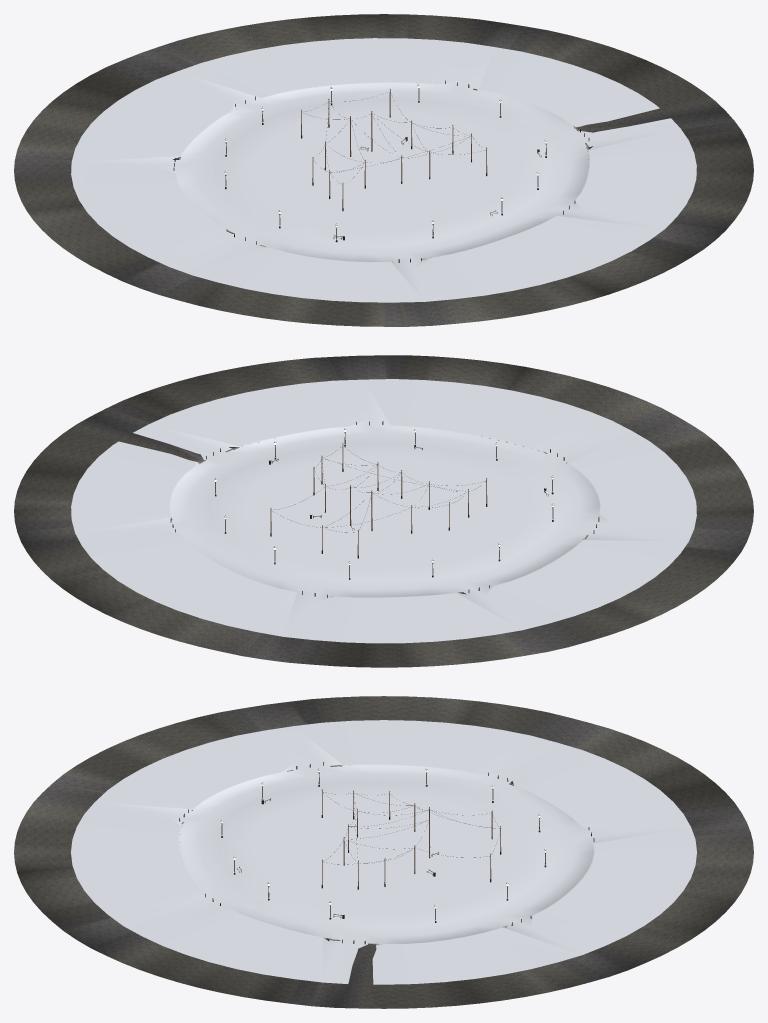
Rendered from square.lite.glb.
3 renders of one model, top to bottom at view 1: azimuth 30°, elevation 25°; view 2: azimuth 150°, elevation 25°; view 3: azimuth 270°, elevation 25°, orthographic.
Visible parts, largest first — view 1: snow_ground, ground, poles_wood, street_iron; view 2: snow_ground, ground, poles_wood, street_iron; view 3: snow_ground, ground, street_iron, poles_wood.
Part boxes in pixels (left/top/right/bottom): snow_ground: left=71, top=38, right=696, bottom=302; ground: left=14, top=14, right=753, bottom=326; poles_wood: left=301, top=90, right=487, bottom=208; street_iron: left=173, top=80, right=589, bottom=262; snow_ground: left=71, top=379, right=696, bottom=643; ground: left=14, top=355, right=753, bottom=667; poles_wood: left=270, top=444, right=487, bottom=555; street_iron: left=170, top=421, right=599, bottom=597; snow_ground: left=71, top=720, right=696, bottom=984; ground: left=14, top=696, right=753, bottom=1008; street_iron: left=179, top=762, right=594, bottom=944; poles_wood: left=322, top=790, right=501, bottom=886.
Bounding box in the file's own units: 156 × 9.73 × 156.
Materials: 12 (7 with a texture image).
